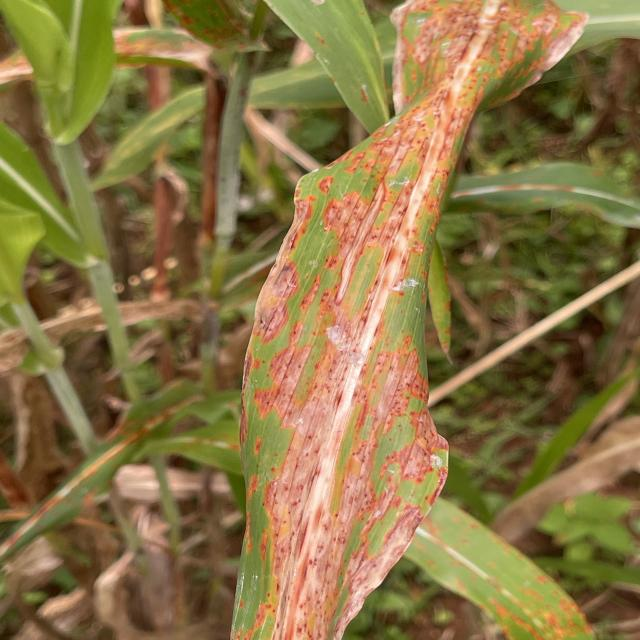millet_healthy: (0, 0, 117, 151)
millet_rust: (226, 0, 594, 640), (388, 492, 598, 640), (495, 414, 640, 534), (445, 164, 640, 223)
